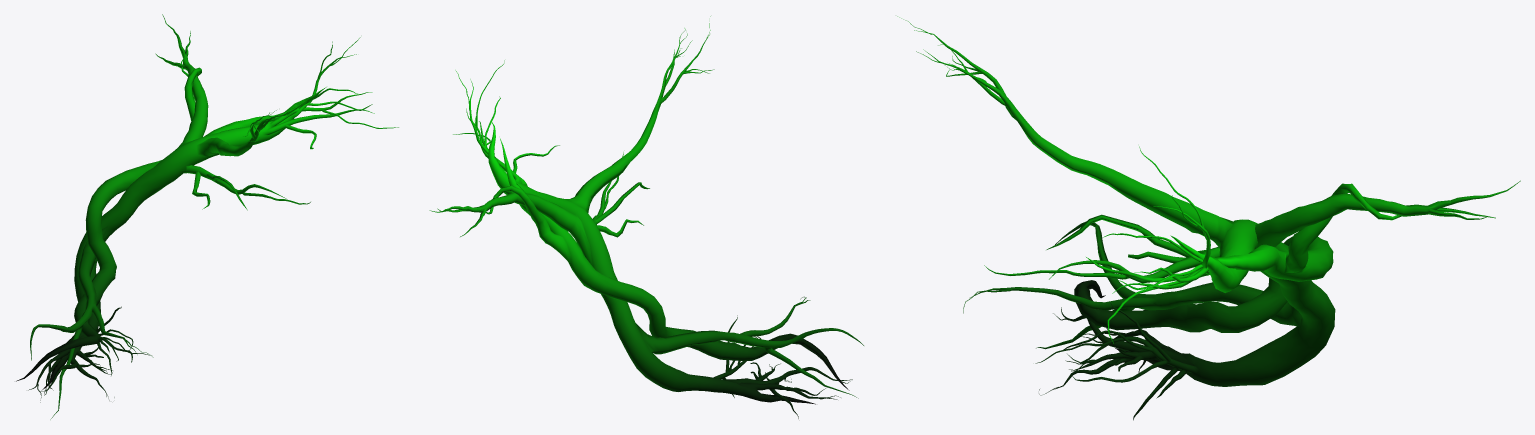
The model's file is BigRoots_2.fbx.
3 views of the same model, side by side, from view 1: azimuth 30°, elevation 25°; view 2: azimuth 150°, elevation 25°; view 3: azimuth 270°, elevation 25° (orthographic). The views are drawn at different scales.
Visible parts, largest first — view 1: BigRoots_2_LOD0; view 2: BigRoots_2_LOD0; view 3: BigRoots_2_LOD0.
Part boxes in pixels (x1=…): BigRoots_2_LOD0: x1=16, y1=14, x2=398, y2=419; BigRoots_2_LOD0: x1=429, y1=16, x2=863, y2=418; BigRoots_2_LOD0: x1=897, y1=16, x2=1520, y2=420.
Size of what is drawn, in the model's own units: 1607 by 1202 by 1397.
